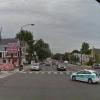Car: (68, 64, 100, 84)
